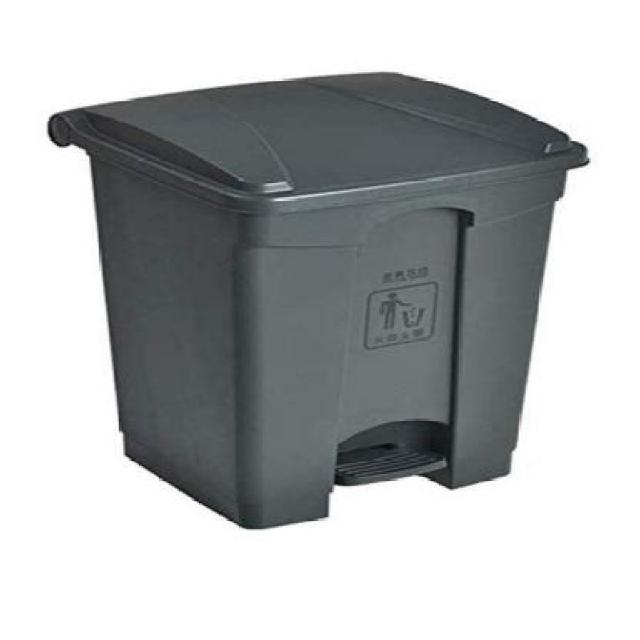garbage container: (31, 58, 614, 544)
